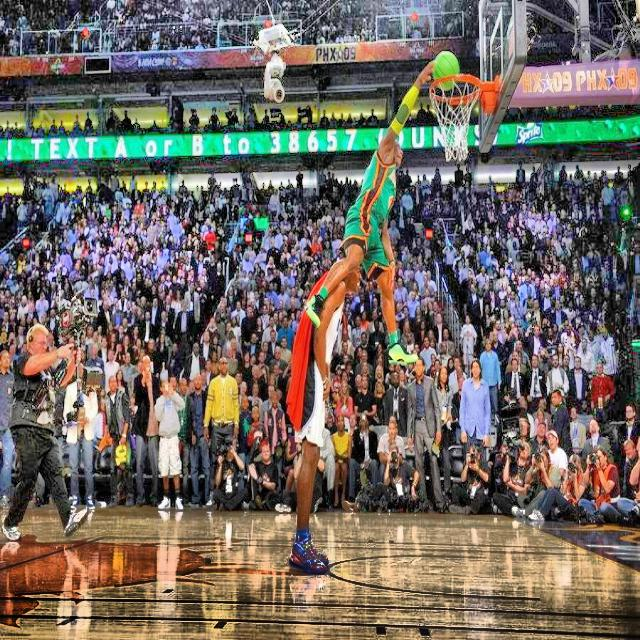rim: (428, 73, 480, 164)
